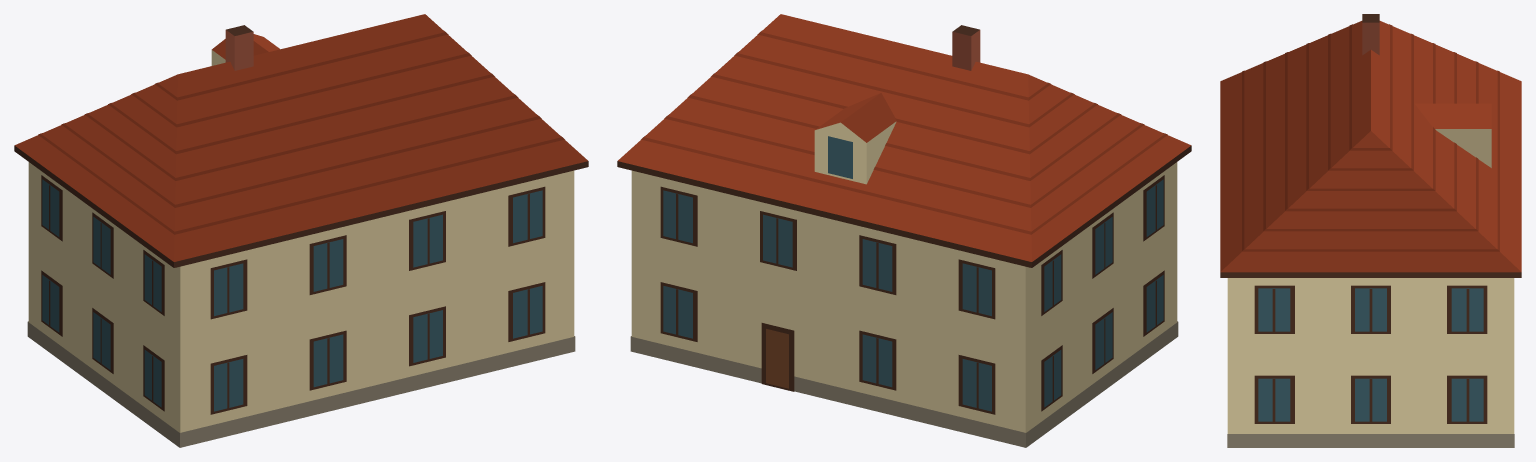
File: house-dormer-cottage.glb
3 renders of one model, left to right at view 1: azimuth 30°, elevation 25°; view 2: azimuth 150°, elevation 25°; view 3: azimuth 270°, elevation 25°, orthographic. The views are drawn at different scales.
Parts seen in each view (by area): view 1: House Dormer cottage; view 2: House Dormer cottage; view 3: House Dormer cottage.
Boxes of the visible parts, x1,y1,x2,y2 form: House Dormer cottage: (14,14,588,447); House Dormer cottage: (617,14,1191,447); House Dormer cottage: (1220,14,1521,447).
Size of the model in its own units: 15.92 by 12.05 by 10.61.
